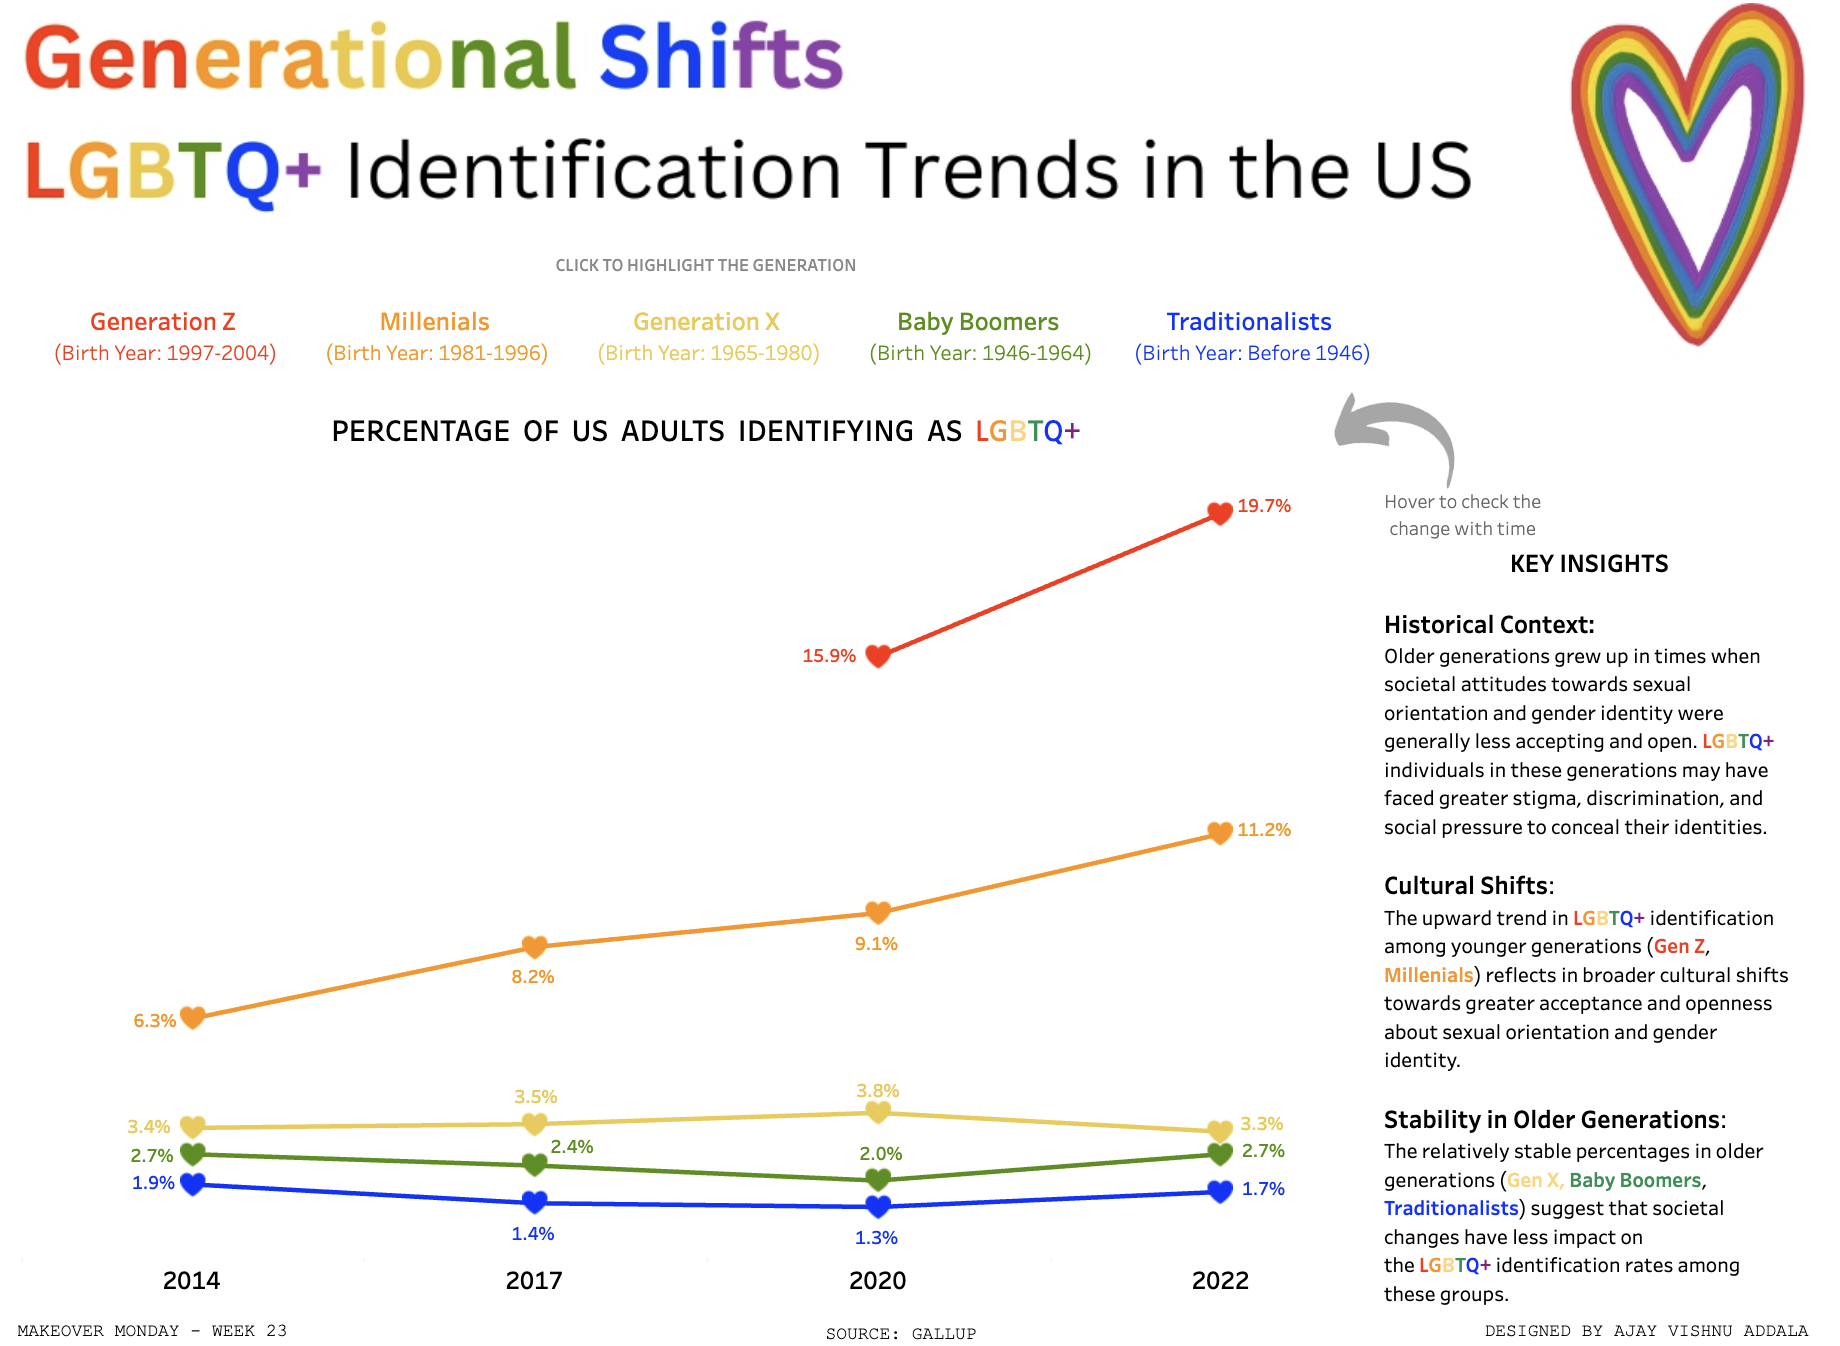

The page's visual inventory and layout, read from the dashboard file:
{"tool":"tableau","page":{"name":"PRIDE","canvas":[1200,900],"ordinal":0},"visuals":[{"type":"image","param":"Image/Generational Shifts LGBTQ+ Identification Trends in the US.png","box":[4,4,1192,892]},{"type":"worksheet","title":"Gens","mark":"Automatic","cols":["Generation"],"box":[5,160,914,100]},{"type":"image","param":"Image/Screenshot 2024-06-08 at 22.52.36.png","box":[874,264,109,83]},{"type":"worksheet","title":"Chart","mark":"Automatic","rows":["LGBT Share of adult U.S Population","LGBT Share of adult U.S Population"],"cols":["Survey Year"],"box":[5,269,914,597]},{"type":"text","box":[905,318,131,77]},{"type":"text","box":[915,387,274,507]},{"type":"text","box":[3,874,201,30]},{"type":"text","box":[970,874,227,30]}]}

Visuals, with their boxes in screenshot pixels (x1, y1, x2, y2), scaled from the page's 1200x900 canvas onto the 1840x1346 screenshot:
image: (6, 6, 1834, 1340)
"Gens" worksheet: (8, 239, 1409, 389)
image: (1340, 395, 1507, 519)
"Chart" worksheet: (8, 402, 1409, 1295)
text: (1388, 476, 1589, 591)
text: (1403, 579, 1823, 1337)
text: (5, 1307, 313, 1345)
text: (1487, 1307, 1835, 1345)
